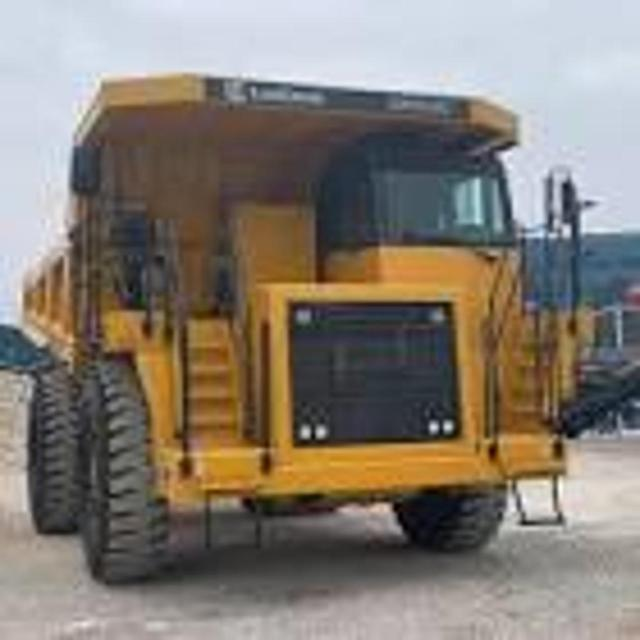dump_truck: (17, 61, 602, 580)
